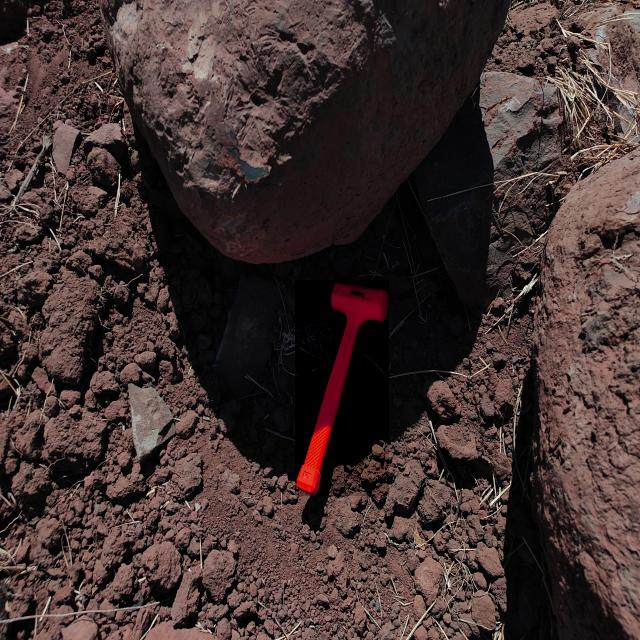Orange_hammer: (295, 280, 389, 496)
